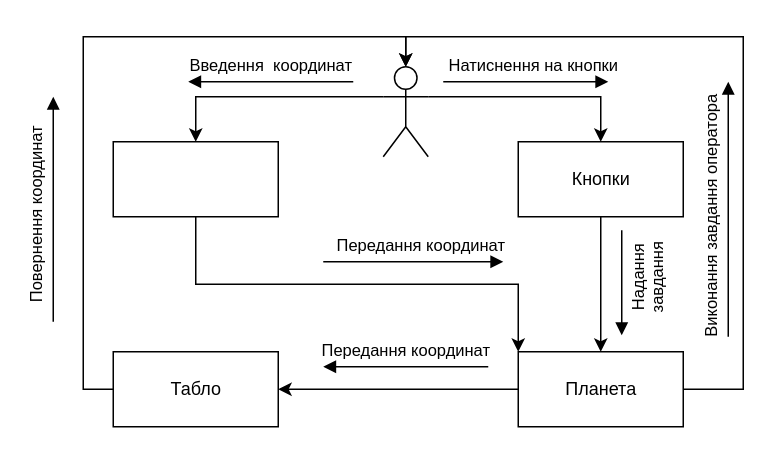
Image size: 782x453. Some labels were removed from this diagram. Here are the shapes that lost their labels. From the top down, the centre of each, then its label:
the point at 405,111: Actor Оператор
the point at 195,178: Текстові поля
